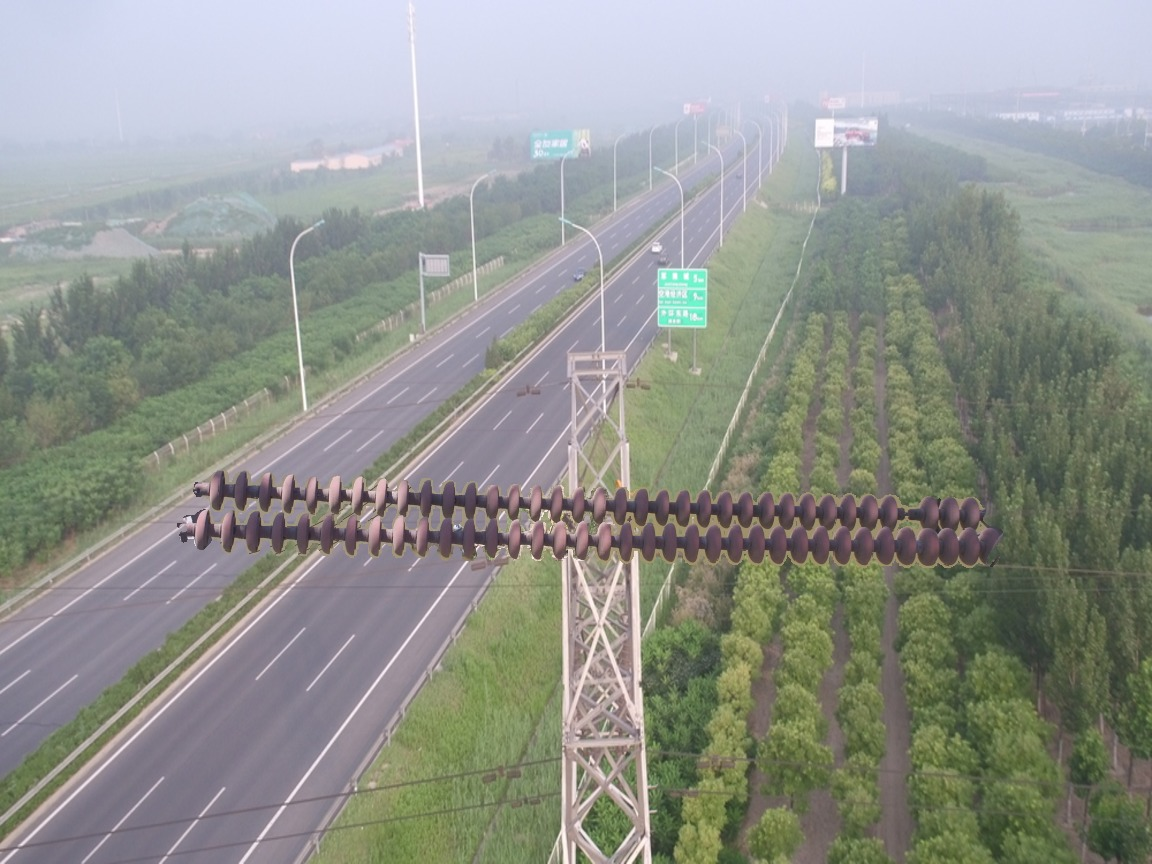defect: (876, 493, 946, 533)
